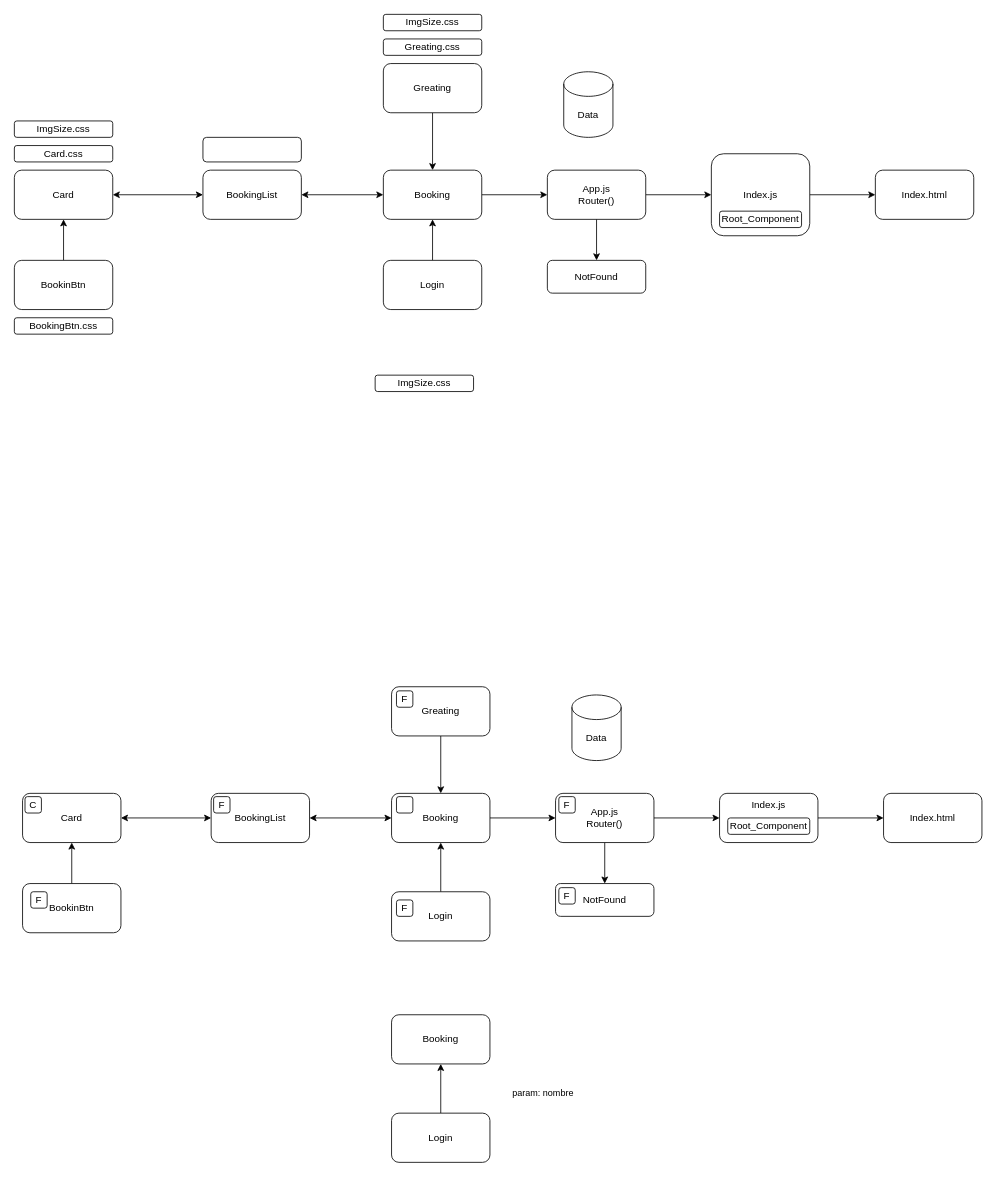
Some shapes in this 996 by 1177 pixel diagram are drawn without their labels. Here are the shapes that lost their labels. From the top down, the centre of each, then its label:
At point (251, 149): "Flex.css".
At point (404, 804): "FP".
